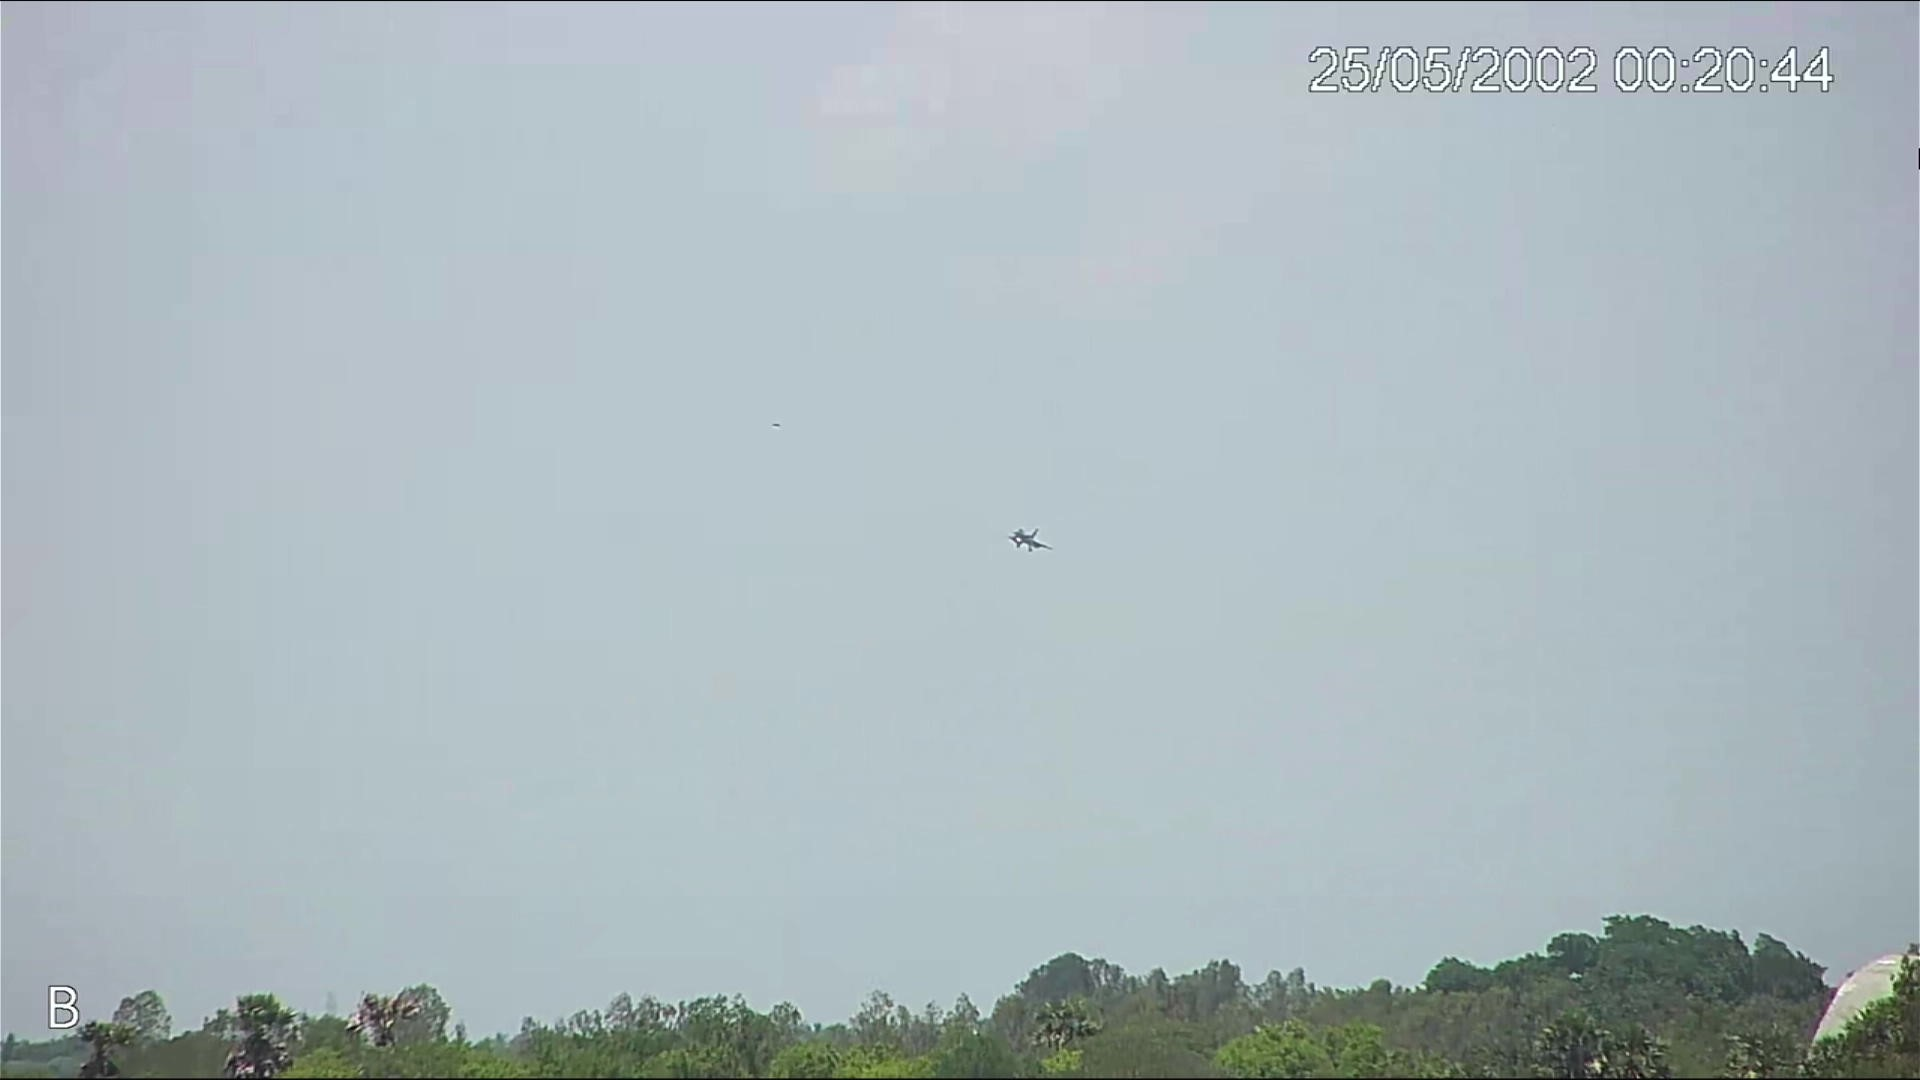SU_30: (1007, 525, 1052, 556)
